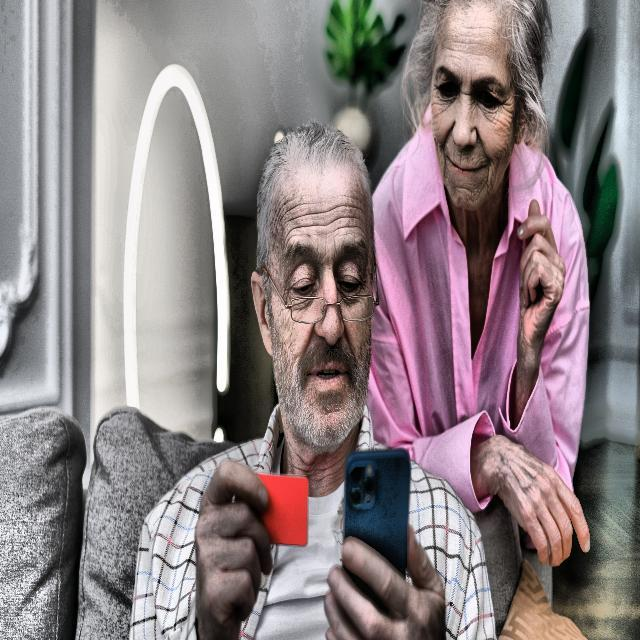Phone: (341, 447, 412, 617)
